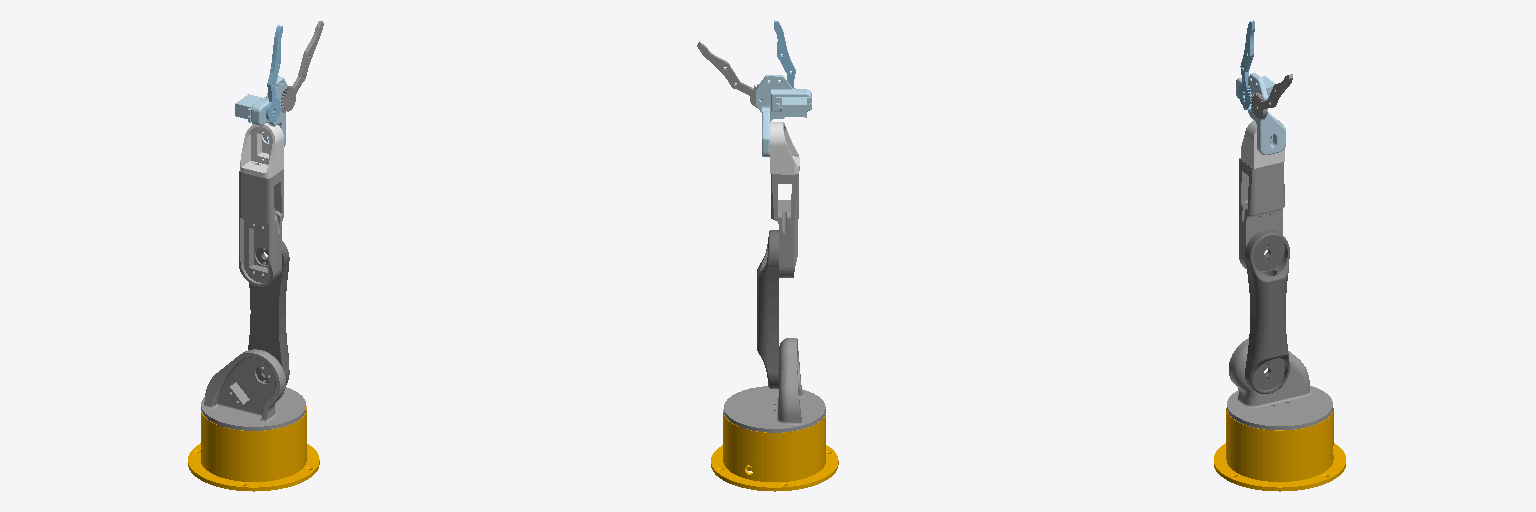
robot.urdf — robot_arm_urdf:
<?xml version="1.0" encoding="utf-8" ?>
<robot name="robot_arm_urdf">
    <link name="world" />
    <joint name="base_joint" type="fixed">
        <parent link="world" />
        <child link="base" />
        <origin rpy="0 0 0" xyz="0.0 0.0 0.0" />
    </joint>
    <link name="base">
        <visual>
            <origin xyz="0 0 0" rpy="0 -0 0" />
            <geometry>
                <mesh filename="package://robot_arm_urdf/meshes/base.stl" />
            </geometry>
            <material name="base_material">
                <color rgba="0.98039215686274505668 0.71372549019607844922 0.0039215686274509803377 1.0" />
            </material>
        </visual>
        <collision>
            <origin xyz="0 0 0" rpy="0 -0 0" />
            <geometry>
                <mesh filename="package://robot_arm_urdf/meshes/base.stl" />
            </geometry>
        </collision>
        <inertial>
            <origin xyz="1.308444967371601772e-08 0.0016455242753219850339 0.033159151665155039979" rpy="0 0 0" />
            <mass value="2.5061742673613189858" />
            <inertia ixx="0.0080373596136458155814" ixy="-2.0064512625389730521e-09" ixz="4.1854899316196284146e-10" iyy="0.0076814415385288775315" iyz="0.00022409696897891879445" izz="0.012258412810707976226" />
        </inertial>
    </link>
    <link name="waist">
        <visual>
            <origin xyz="0 0 0" rpy="-1.570796326794896558 -1.849012482255595403e-31 1.9081724580384325648e-17" />
            <geometry>
                <mesh filename="package://robot_arm_urdf/meshes/waist.stl" />
            </geometry>
            <material name="waist_material">
                <color rgba="0.64705882352941179736 0.64705882352941179736 0.64705882352941179736 1.0" />
            </material>
        </visual>
        <collision>
            <origin xyz="0 0 0" rpy="-1.570796326794896558 -1.849012482255595403e-31 1.9081724580384325648e-17" />
            <geometry>
                <mesh filename="package://robot_arm_urdf/meshes/waist.stl" />
            </geometry>
        </collision>
        <inertial>
            <origin xyz="0.011241803612718400188 -0.0021442173478276350951 -0.029074280411245594091" rpy="0 0 0" />
            <mass value="1.9512011284109493925" />
            <inertia ixx="0.0040507170267320893181" ixy="1.5176413056554270416e-05" ixz="0.0003832822978937276779" iyy="0.0029973116973948817597" iyz="-0.00040117249721222510107" izz="0.003584616248913396943" />
        </inertial>
    </link>
    <link name="arm_01">
        <visual>
            <origin xyz="3.4694469519536141888e-18 -0.17999999999999999334 -0.031500000000000000222" rpy="-2.924169689086383973e-29 -5.6950657598437192986e-17 -1.9370537946433333546e-28" />
            <geometry>
                <mesh filename="package://robot_arm_urdf/meshes/arm_01.stl" />
            </geometry>
            <material name="arm_01_material">
                <color rgba="0.49803921568627451677 0.49803921568627451677 0.49803921568627451677 1.0" />
            </material>
        </visual>
        <collision>
            <origin xyz="3.4694469519536141888e-18 -0.17999999999999999334 -0.031500000000000000222" rpy="-2.924169689086383973e-29 -5.6950657598437192986e-17 -1.9370537946433333546e-28" />
            <geometry>
                <mesh filename="package://robot_arm_urdf/meshes/arm_01.stl" />
            </geometry>
        </collision>
        <inertial>
            <origin xyz="9.438877884618801971e-08 -0.090000259389720727032 -0.011657399098793312653" rpy="0 0 0" />
            <mass value="1.6973256563675322983" />
            <inertia ixx="0.0061854543167089758374" ixy="1.8425104712181581008e-08" ixz="1.5345783666730037511e-09" iyy="0.00055016188789161740019" iyz="-5.638428034084887578e-09" izz="0.0064757856499462933611" />
        </inertial>
    </link>
    <link name="arm_02">
        <visual>
            <origin xyz="0.052125000000000032419 -3.4694469519536141888e-18 0" rpy="-3.141592653589793116 5.7908188067313584725e-29 6.6745401632892220506e-28" />
            <geometry>
                <mesh filename="package://robot_arm_urdf/meshes/arm_02.stl" />
            </geometry>
            <material name="arm_02_material">
                <color rgba="0.64705882352941179736 0.64705882352941179736 0.64705882352941179736 1.0" />
            </material>
        </visual>
        <collision>
            <origin xyz="0.052125000000000032419 -3.4694469519536141888e-18 0" rpy="-3.141592653589793116 5.7908188067313584725e-29 6.6745401632892220506e-28" />
            <geometry>
                <mesh filename="package://robot_arm_urdf/meshes/arm_02.stl" />
            </geometry>
        </collision>
        <inertial>
            <origin xyz="0.0625681145948023959 4.7391340990904147099e-05 -0.0085798873056161916589" rpy="0 0 0" />
            <mass value="1.2477870269405204606" />
            <inertia ixx="0.0005199601525508458456" ixy="-4.1359978407192805571e-06" ixz="-2.4034660981138106451e-05" iyy="0.0030639997078488077561" iyz="-1.4401142663008283034e-08" izz="0.0032585331859561351281" />
        </inertial>
    </link>
    <link name="arm_03">
        <visual>
            <origin xyz="0.0074999999999999979877 1.7347234759768070944e-18 -5.5511151231257827021e-17" rpy="-1.570796326794896558 1.6878593017627638581e-29 2.0650159235514834331e-17" />
            <geometry>
                <mesh filename="package://robot_arm_urdf/meshes/arm_03.stl" />
            </geometry>
            <material name="arm_03_material">
                <color rgba="0.91764705882352937127 0.91764705882352937127 0.91764705882352937127 1.0" />
            </material>
        </visual>
        <collision>
            <origin xyz="0.0074999999999999979877 1.7347234759768070944e-18 -5.5511151231257827021e-17" rpy="-1.570796326794896558 1.6878593017627638581e-29 2.0650159235514834331e-17" />
            <geometry>
                <mesh filename="package://robot_arm_urdf/meshes/arm_03.stl" />
            </geometry>
        </collision>
        <inertial>
            <origin xyz="0.0075688905330903158072 -0.0079064620494430429276 -0.026711947480030959201" rpy="0 0 0" />
            <mass value="0.43636053014323650245" />
            <inertia ixx="0.0002324727636841850153" ixy="-2.375483843556414412e-07" ixz="-6.8963621581327043345e-07" iyy="0.00029851895897625848686" iyz="-3.4405034042908628881e-05" izz="0.00015552264633482166135" />
        </inertial>
    </link>
    <link name="servo_motor_micro_9g">
        <visual>
            <origin xyz="0.013500000000000008521 0.060749999999999859668 0.0240000000000000005" rpy="-1.570796326794896558 -1.570796326794896336 0" />
            <geometry>
                <mesh filename="package://robot_arm_urdf/meshes/servo_motor_micro_9g.stl" />
            </geometry>
            <material name="servo_motor_micro_9g_material">
                <color rgba="0.76862745098039220171 0.88627450980392152857 0.95294117647058818044 1.0" />
            </material>
        </visual>
        <collision>
            <origin xyz="0.013500000000000008521 0.060749999999999859668 0.0240000000000000005" rpy="-1.570796326794896558 -1.570796326794896336 0" />
            <geometry>
                <mesh filename="package://robot_arm_urdf/meshes/servo_motor_micro_9g.stl" />
            </geometry>
        </collision>
        <inertial>
            <origin xyz="0.0053043898012558668431 0.043945681315923593169 0.015548629769065023046" rpy="0 0 0" />
            <mass value="0.64029048072131267144" />
            <inertia ixx="0.00073218478054918603119" ixy="-4.3855423552015562695e-05" ixz="2.9500735923160239431e-05" iyy="0.00038228691425246059477" iyz="-0.00018359042225535402316" izz="0.0005448963287970038467" />
        </inertial>
    </link>
    <link name="gripper">
        <visual>
            <origin xyz="0 0 -0.0029999999999999957256" rpy="3.141592653589793116 1.1473917933947295061e-16 4.9962090555280968027e-17" />
            <geometry>
                <mesh filename="package://robot_arm_urdf/meshes/gripper.stl" />
            </geometry>
            <material name="gripper_material">
                <color rgba="0.64705882352941179736 0.64705882352941179736 0.64705882352941179736 1.0" />
            </material>
        </visual>
        <collision>
            <origin xyz="0 0 -0.0029999999999999957256" rpy="3.141592653589793116 1.1473917933947295061e-16 4.9962090555280968027e-17" />
            <geometry>
                <mesh filename="package://robot_arm_urdf/meshes/gripper.stl" />
            </geometry>
        </collision>
        <inertial>
            <origin xyz="0.039797446633225243284 -0.0071797102337791468205 -0.0026655973034328192539" rpy="0 0 0" />
            <mass value="0.096807587187121388328" />
            <inertia ixx="1.0436801210348834121e-05" ixy="2.856909230840686998e-05" ixz="-1.1289910687973159345e-07" iyy="0.0001493128022397500229" iyz="2.0361418961475602225e-08" izz="0.00015921520268781551907" />
        </inertial>
    </link>
    <joint name="gripper_to_gripperbase" type="revolute">
        <origin xyz="0.020999999999999994366 0.056999999999999828582 -0.013500000000000008521" rpy="-1.5707963267948923392 1.0471975511965976313 1.5707963267948958919" />
        <parent link="servo_motor_micro_9g" />
        <child link="gripper" />
        <axis xyz="0 0 1" />
        <limit effort="20" velocity="20" lower="-1.431169986635350222" upper="0.52359877559829881566" />
        <joint_properties friction="0.0" />
    </joint>
    <link name="part_1_gear_2">
        <visual>
            <origin xyz="-5.5511151231257827021e-17 5.5511151231257827021e-17 -0.0029999999999999887867" rpy="2.8349777283637721441e-18 -8.1601235398565251445e-17 8.9454483410563380923e-17" />
            <geometry>
                <mesh filename="package://robot_arm_urdf/meshes/part_1_gear_2.stl" />
            </geometry>
            <material name="part_1_gear_2_material">
                <color rgba="0.61568627450980395466 0.81176470588235294379 0.92941176470588238168 1.0" />
            </material>
        </visual>
        <collision>
            <origin xyz="-5.5511151231257827021e-17 5.5511151231257827021e-17 -0.0029999999999999887867" rpy="2.8349777283637721441e-18 -8.1601235398565251445e-17 8.9454483410563380923e-17" />
            <geometry>
                <mesh filename="package://robot_arm_urdf/meshes/part_1_gear_2.stl" />
            </geometry>
        </collision>
        <inertial>
            <origin xyz="0.040345905725660081986 0.0072955290988062550944 -0.0027349576605557833486" rpy="0 0 0" />
            <mass value="0.09527073563863490413" />
            <inertia ixx="1.0348700818063351201e-05" ixy="-2.8099340519462046912e-05" ixz="1.1062288635049842927e-07" iyy="0.00014645863345789353381" iyz="1.9975690995284392656e-08" izz="0.00015628040630857664229" />
        </inertial>
    </link>
    <joint name="Mgripper_to_gripperbase" type="revolute">
        <origin xyz="0.019325037223340026799 0.056999999999999828582 0.026849999999999998868" rpy="-1.5707963267948952257 -1.0471975511965978534 1.5707963267948676922" />
        <parent link="servo_motor_micro_9g" />
        <child link="part_1_gear_2" />
        <axis xyz="0 0 1" />
        <limit effort="20" velocity="20" lower="0.52359877559829881566" upper="1.431169986635350222" />
        <joint_properties friction="0.0" />
    </joint>
    <joint name="gripperbase_arm03" type="revolute">
        <origin xyz="0.0075000000000000014572 -0.021000000000000001305 -0.041999999999999981792" rpy="-1.570796326794896558 -2.4166072180898011715e-12 8.5000798273800594133e-17" />
        <parent link="arm_03" />
        <child link="servo_motor_micro_9g" />
        <axis xyz="0 0 1" />
        <limit effort="20" velocity="20" lower="-1.570796326794896558" upper="1.570796326794896558" />
        <joint_properties friction="0.0" />
    </joint>
    <joint name="arm03_to_arm02" type="revolute">
        <origin xyz="0.13462499999999999467 -0.0079500000000000022038 -0.0082500000000000003886" rpy="-1.57079632679489678 1.7211217671221983677e-16 1.570796326794896336" />
        <parent link="arm_02" />
        <child link="arm_03" />
        <axis xyz="0 0 1" />
        <limit effort="20" velocity="20" lower="-6.283185307179586232" upper="6.283185307179586232" />
        <joint_properties friction="0.0" />
    </joint>
    <joint name="arm02_to_arm01" type="revolute">
        <origin xyz="3.4694469519536141888e-18 -0.17999999999999999334 8.6736173798840354721e-19" rpy="3.141592653589793116 -5.5820702367740645181e-16 -1.5707963267901117188" />
        <parent link="arm_01" />
        <child link="arm_02" />
        <axis xyz="0 0 1" />
        <limit effort="20" velocity="20" lower="-1.9198621771937625091" upper="1.9198621771937625091" />
        <joint_properties friction="0.0" />
    </joint>
    <joint name="arm01_to_waist" type="revolute">
        <origin xyz="0.0060000000000000018596 -0.020864999999999998131 -0.060420000000000001483" rpy="1.5707963267948974462 2.3727674168054265368e-12 1.570796326794896558" />
        <parent link="waist" />
        <child link="arm_01" />
        <axis xyz="0 0 1" />
        <limit effort="20" velocity="20" lower="-1.570796326794896558" upper="1.570796326794896558" />
        <joint_properties friction="0.0" />
    </joint>
    <joint name="waist_to_base" type="revolute">
        <origin xyz="0 0 0.084000000000000005218" rpy="3.1415926535897917837 4.9954643694121674038e-16 -2.6318082040242551933" />
        <parent link="base" />
        <child link="waist" />
        <axis xyz="0 0 1" />
        <limit effort="20" velocity="20" lower="-6.283185307179586232" upper="6.283185307179586232" />
        <joint_properties friction="0.0" />
    </joint>
    <transmission name="waist">
        <type>transmission_interface/SimpleTransmission</type>
        <joint name="waist_to_base">
            <hardwareInterface>hardware_interface/PositionJointInterface</hardwareInterface>
        </joint>
        <actuator name="waist_motor">
            <hardwareInterface>hardware_interface/PositionJointInterface</hardwareInterface>
            <mechanicalReduction>1</mechanicalReduction>
        </actuator>
    </transmission>
    <transmission name="arm01">
        <type>transmission_interface/SimpleTransmission</type>
        <joint name="arm01_to_waist">
            <hardwareInterface>hardware_interface/PositionJointInterface</hardwareInterface>
        </joint>
        <actuator name="arm01_motor">
            <hardwareInterface>hardware_interface/PositionJointInterface</hardwareInterface>
            <mechanicalReduction>1</mechanicalReduction>
        </actuator>
    </transmission>
    <transmission name="arm02">
        <type>transmission_interface/SimpleTransmission</type>
        <joint name="arm02_to_arm01">
            <hardwareInterface>hardware_interface/PositionJointInterface</hardwareInterface>
        </joint>
        <actuator name="arm02_motor">
            <hardwareInterface>hardware_interface/PositionJointInterface</hardwareInterface>
            <mechanicalReduction>1</mechanicalReduction>
        </actuator>
    </transmission>
    <transmission name="arm03">
        <type>transmission_interface/SimpleTransmission</type>
        <joint name="arm03_to_arm02">
            <hardwareInterface>hardware_interface/PositionJointInterface</hardwareInterface>
        </joint>
        <actuator name="arm03_motor">
            <hardwareInterface>hardware_interface/PositionJointInterface</hardwareInterface>
            <mechanicalReduction>1</mechanicalReduction>
        </actuator>
    </transmission>
    <transmission name="gripperbase">
        <type>transmission_interface/SimpleTransmission</type>
        <joint name="gripperbase_arm03">
            <hardwareInterface>hardware_interface/PositionJointInterface</hardwareInterface>
        </joint>
        <actuator name="gripperbase_motor">
            <hardwareInterface>hardware_interface/PositionJointInterface</hardwareInterface>
            <mechanicalReduction>1</mechanicalReduction>
        </actuator>
    </transmission>
    <transmission name="Mgripper)">
        <type>transmission_interface/SimpleTransmission</type>
        <joint name="Mgripper_to_gripperbase">
            <hardwareInterface>hardware_interface/PositionJointInterface</hardwareInterface>
        </joint>
        <actuator name="Mgripper_motor">
            <hardwareInterface>hardware_interface/PositionJointInterface</hardwareInterface>
            <mechanicalReduction>1</mechanicalReduction>
        </actuator>
    </transmission>
    <!-- this joint should just mirror motor gripper joint !! -->
    <transmission name="gripper)">
        <type>transmission_interface/SimpleTransmission</type>
        <joint name="gripper_to_gripperbase">
            <hardwareInterface>hardware_interface/PositionJointInterface</hardwareInterface>
        </joint>
        <actuator name="gripper_motor">
            <hardwareInterface>hardware_interface/PositionJointInterface</hardwareInterface>
            <mechanicalReduction>1</mechanicalReduction>
        </actuator>
    </transmission>
    <gazebo>
        <plugin name="control" filename="libgazebo_ros_control.so">
            <robotNamespace>/</robotNamespace>
        </plugin>
        <plugin name="gazebo_ros_control" filename="libgazebo_ros_control.so">
            <robotNamespace>/</robotNamespace>
        </plugin>
    </gazebo>
    <gazebo reference="waist">
        <selfCollide>true</selfCollide>
    </gazebo>
    <gazebo reference="arm_01">
        <selfCollide>true</selfCollide>
    </gazebo>
    <gazebo reference="arm_02">
        <selfCollide>true</selfCollide>
    </gazebo>
    <gazebo reference="arm_03">
        <selfCollide>true</selfCollide>
    </gazebo>
    <gazebo reference="servo_motor_micro_9g">
        <selfCollide>true</selfCollide>
    </gazebo>
    <!-- in these the teeths collide so maybe idk remove this??-->
    <gazebo reference="gripper">
        <selfCollide>true</selfCollide>
    </gazebo>
    <gazebo reference="part_1_gear_2">
        <selfCollide>true</selfCollide>
    </gazebo>
</robot>

--- What the picture shows (computed from the rendered views, not written in the file) ---
3 views of the same robot in one strip: view 1: azimuth 30°, elevation 25°; view 2: azimuth 150°, elevation 25°; view 3: azimuth 270°, elevation 25° (orthographic).
Robot: robot_arm_urdf — 9 links, 8 joints (7 revolute, 1 fixed); root link world; default pose: all joints at 0 but 1 set to mid-range because 0 is outside their limits (Mgripper_to_gripperbase = 0.9774).
Links seen in each view (by area): view 1: base, waist, arm_02, arm_01, arm_03, servo_motor_micro_9g, gripper, part_1_gear_2; view 2: base, waist, arm_01, servo_motor_micro_9g, arm_02, arm_03, gripper, part_1_gear_2; view 3: base, arm_01, waist, arm_02, servo_motor_micro_9g, arm_03, part_1_gear_2, gripper.
Link boxes in pixels (x1,y1,x2,y2): base: (188, 406, 319, 491); waist: (201, 349, 305, 430); arm_02: (239, 169, 283, 286); arm_01: (248, 241, 289, 384); arm_03: (240, 123, 283, 177); servo_motor_micro_9g: (235, 76, 287, 146); gripper: (280, 21, 323, 112); part_1_gear_2: (266, 25, 282, 123); base: (711, 409, 838, 491); waist: (724, 338, 825, 432); arm_01: (757, 230, 778, 388); servo_motor_micro_9g: (756, 75, 811, 156); arm_02: (771, 173, 798, 277); arm_03: (770, 122, 799, 174); gripper: (697, 42, 761, 107); part_1_gear_2: (774, 20, 795, 88); base: (1214, 408, 1345, 491); arm_01: (1245, 229, 1289, 393); waist: (1227, 338, 1332, 429); arm_02: (1239, 158, 1284, 268); servo_motor_micro_9g: (1236, 73, 1285, 154); arm_03: (1241, 117, 1284, 168); part_1_gear_2: (1238, 20, 1254, 109); gripper: (1250, 74, 1292, 118).
Size in the robot's own frame: 0.211 by 0.1822 by 0.6784 metres.
Meshes: 8 distinct files referenced, 8 mesh visuals loaded (8 binary STL).